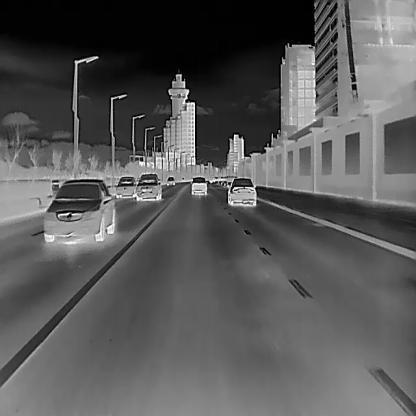car: (41, 180, 115, 241), (227, 176, 256, 205), (133, 172, 161, 201), (114, 176, 137, 198), (191, 176, 207, 194), (166, 175, 175, 185)
